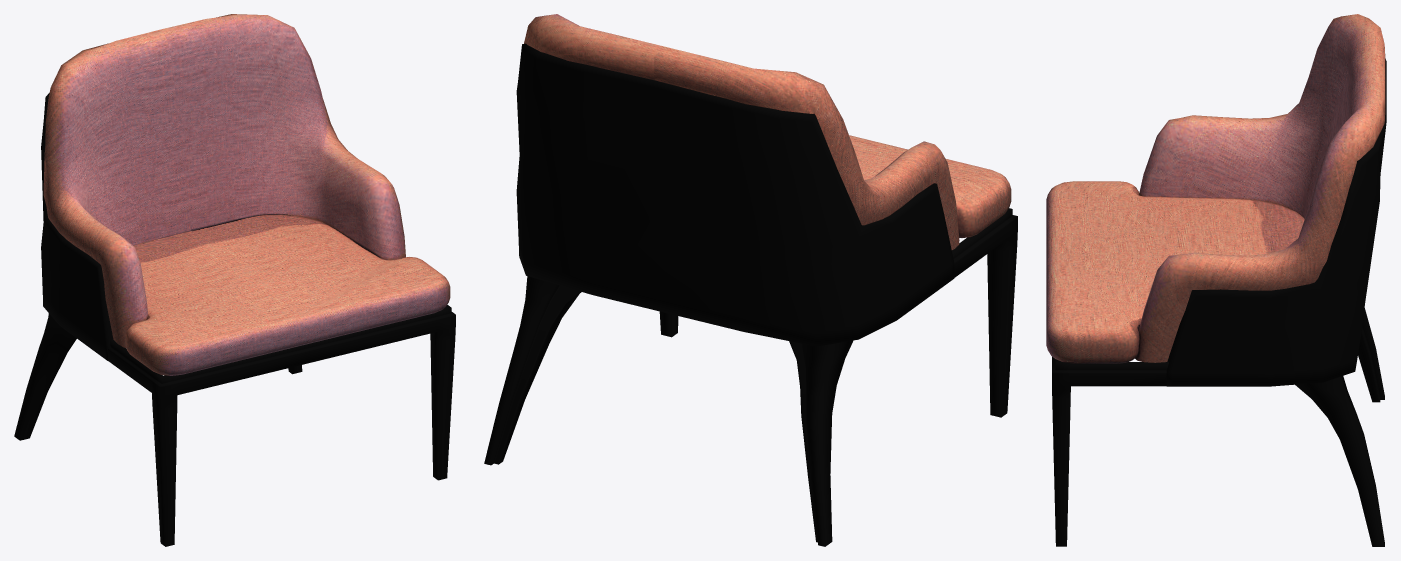
The model's file is One_Seater_Sofa_01.fbx.
3 views of the same model, side by side, from view 1: azimuth 30°, elevation 25°; view 2: azimuth 150°, elevation 25°; view 3: azimuth 270°, elevation 25° (orthographic). The views are drawn at different scales.
Parts seen in each view (by area): view 1: Back.002; view 2: Back.002; view 3: Back.002.
Part boxes in pixels (x1,y1,x2,y2): Back.002: [14, 14, 455, 546]; Back.002: [484, 14, 1017, 546]; Back.002: [1046, 14, 1386, 546].
Size of the model in its own units: 66.12 by 79.78 by 60.01.
Materials: 1 (1 with a texture image).
